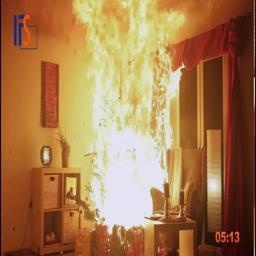fire: (58, 0, 200, 238)
